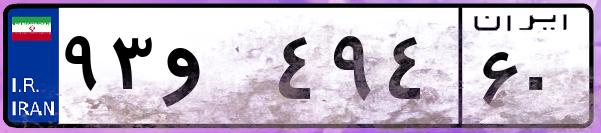0: (525, 38, 570, 115)
3: (110, 28, 158, 98)
4: (270, 28, 330, 110), (385, 28, 445, 110)
6: (475, 38, 525, 113)
9: (330, 28, 385, 110), (57, 26, 110, 100)
و: (158, 20, 270, 120)
